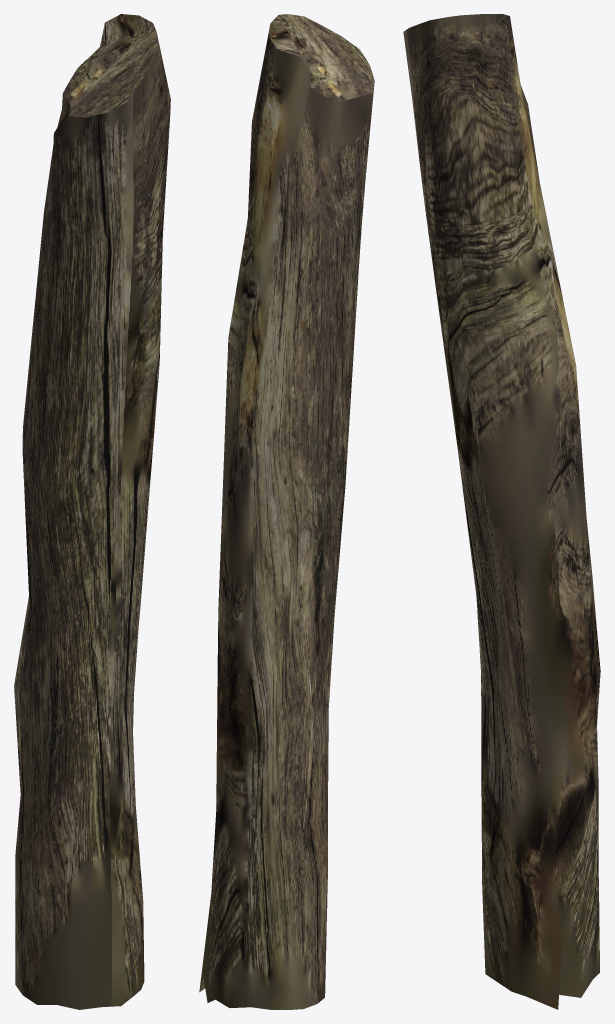
Rendered from mutou one.fbx.
3 renders of one model, left to right at view 1: azimuth 30°, elevation 25°; view 2: azimuth 150°, elevation 25°; view 3: azimuth 270°, elevation 25°, orthographic. The views are drawn at different scales.
Parts seen in each view (by area): view 1: Cylinder01; view 2: Cylinder01; view 3: Cylinder01.
Part boxes in pixels (<box>): Cylinder01: <box>14,14,170,1009</box>; Cylinder01: <box>199,14,374,1009</box>; Cylinder01: <box>403,14,600,1009</box>.
Bounding box in the file's own units: 1.33 × 9.93 × 1.81.
Materials: 1 (1 with a texture image).
